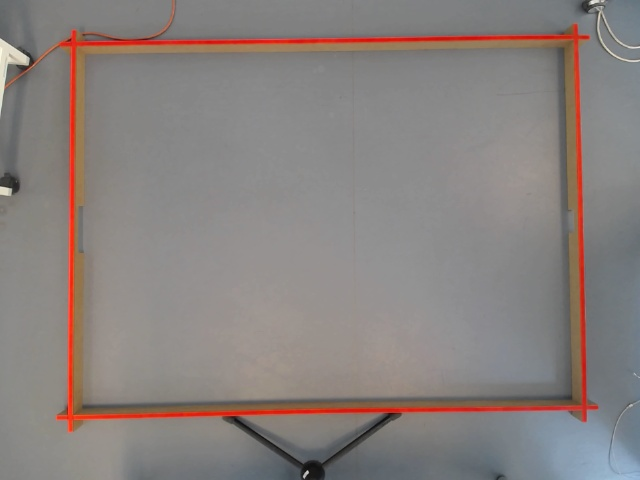big_goal: (69, 201, 86, 252)
small_goal: (562, 206, 587, 233)
wall: (57, 393, 600, 429), (54, 30, 590, 57), (560, 18, 595, 423), (62, 27, 86, 432)
